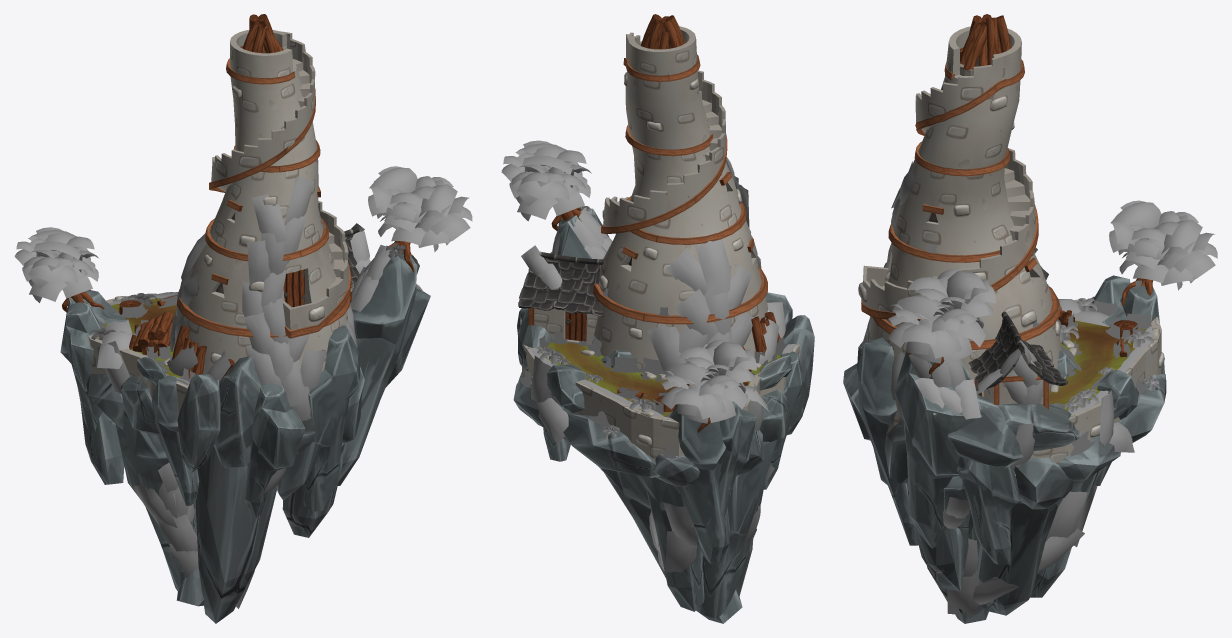
File: Stylised Tower.fbx
3 renders of one model, left to right at view 1: azimuth 30°, elevation 25°; view 2: azimuth 150°, elevation 25°; view 3: azimuth 270°, elevation 25°, orthographic. The views are drawn at different scales.
Parts seen in each view (by area): view 1: Tower base001; view 2: Tower base001; view 3: Tower base001.
Boxes of the visible parts, x1=… form: Tower base001: x1=14, y1=14, x2=472, y2=623; Tower base001: x1=501, y1=14, x2=814, y2=623; Tower base001: x1=843, y1=14, x2=1217, y2=623.
Size of the model in its own units: 765 by 1251 by 668.
